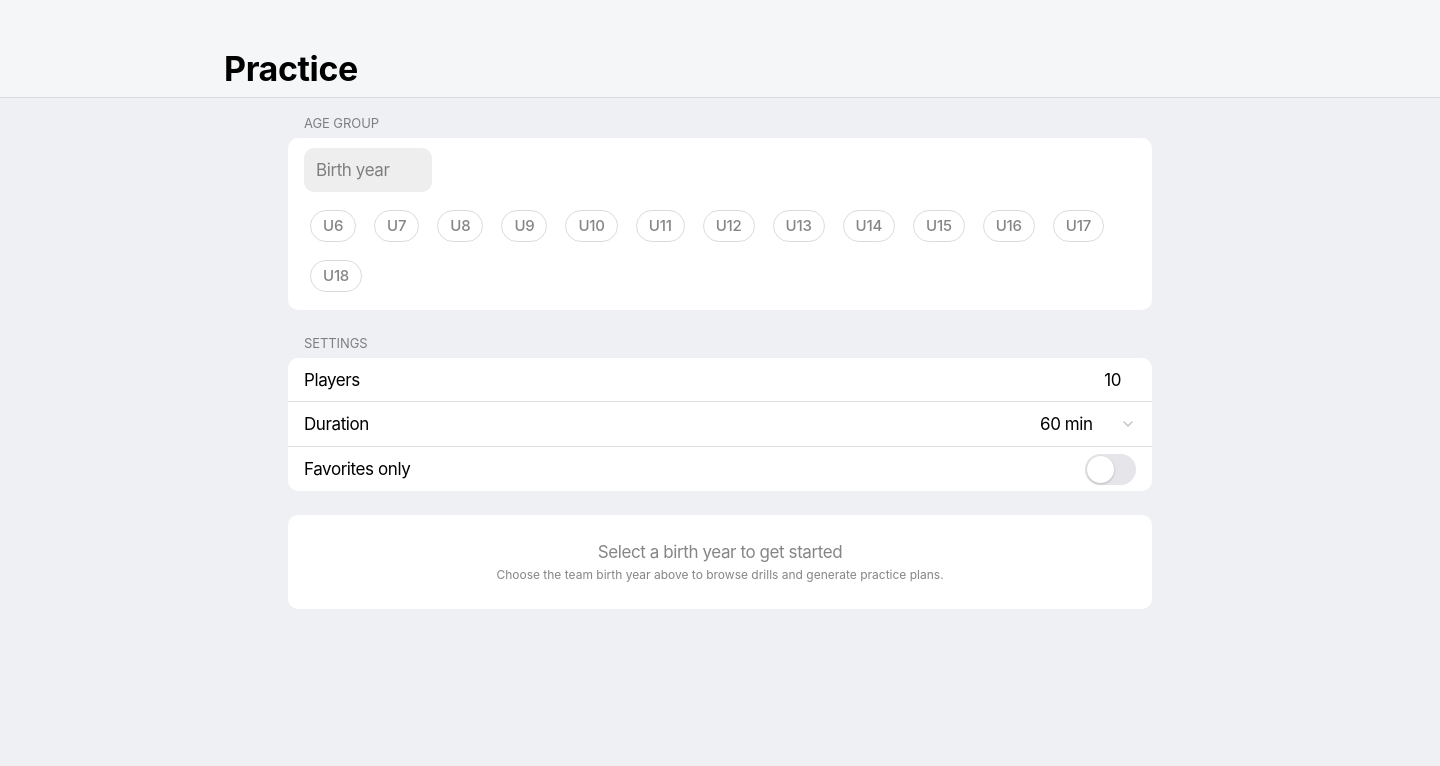
Test: Practice page › shows category chips when clicking a U-age chip
Click the button "U10". click: click(592, 226)
box: 560,204 -> 624,248
(page scrolled)
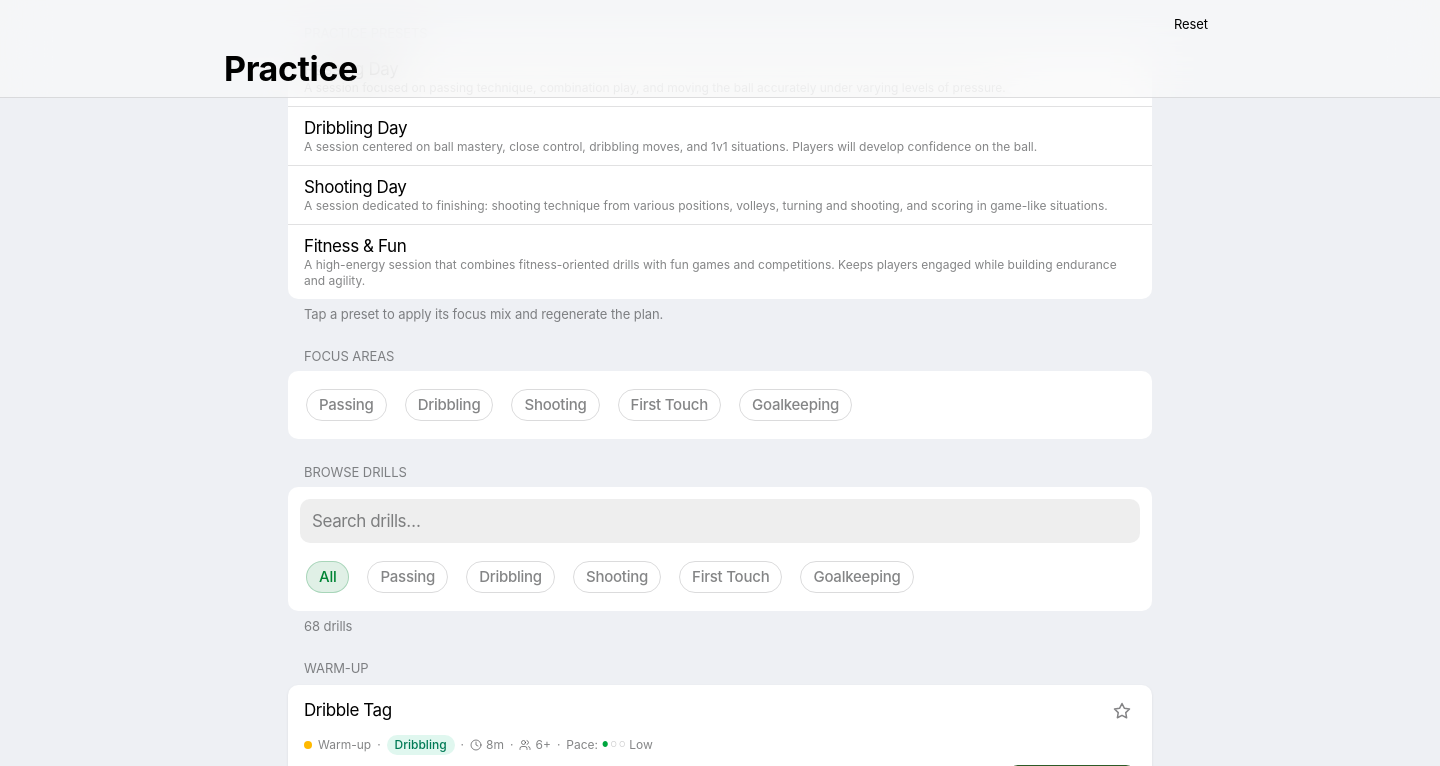
Result: the heading "Focus Areas" is shown at 304,348 -> 394,364
Result: the button "Passing" below "Focus Areas" is shown at 300,383 -> 393,427
Result: the button "Dribbling" below "Focus Areas" is shown at 399,383 -> 500,427
